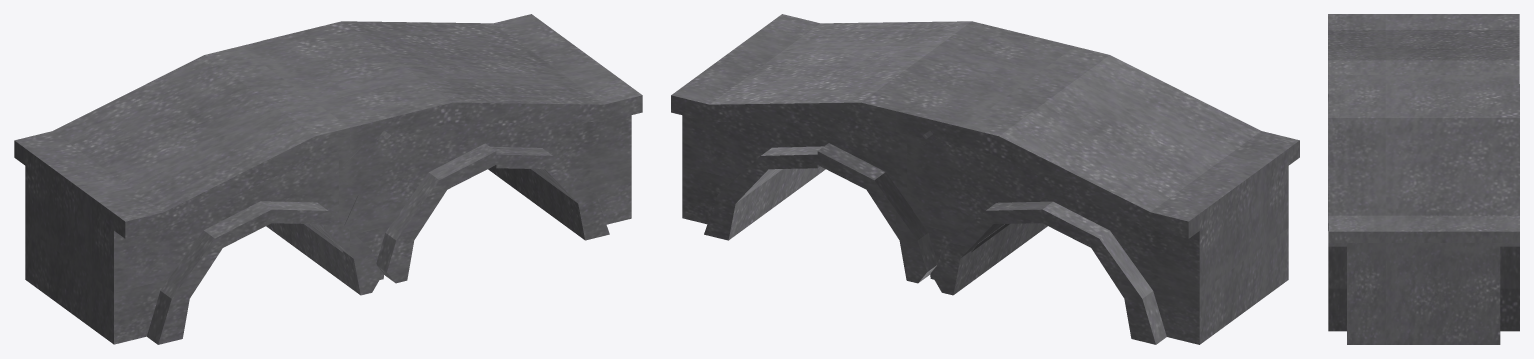
The model's file is Bridge 2 - Level 1.FBX.
3 views of the same model, side by side, from view 1: azimuth 30°, elevation 25°; view 2: azimuth 150°, elevation 25°; view 3: azimuth 270°, elevation 25° (orthographic). The views are drawn at different scales.
Visible parts, largest first — view 1: Bridge 2; view 2: Bridge 2; view 3: Bridge 2.
Boxes of the visible parts, x1,y1,x2,y2 form: Bridge 2: [14, 14, 642, 344]; Bridge 2: [671, 14, 1299, 344]; Bridge 2: [1328, 14, 1519, 344].
Size of the model in its own units: 92.29 by 29.05 by 34.34.
Materials: 1 (1 with a texture image).
